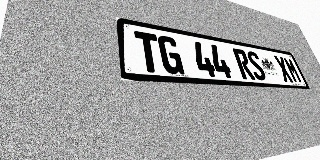4: (191, 41, 217, 77), (208, 44, 233, 78)
G: (157, 35, 185, 75)
M: (283, 57, 303, 83)
R: (232, 48, 256, 80)
S: (245, 50, 268, 81)
T: (134, 31, 163, 73)
X: (273, 55, 294, 83)
